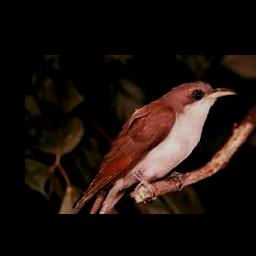Cuckoo: (72, 81, 238, 209)
